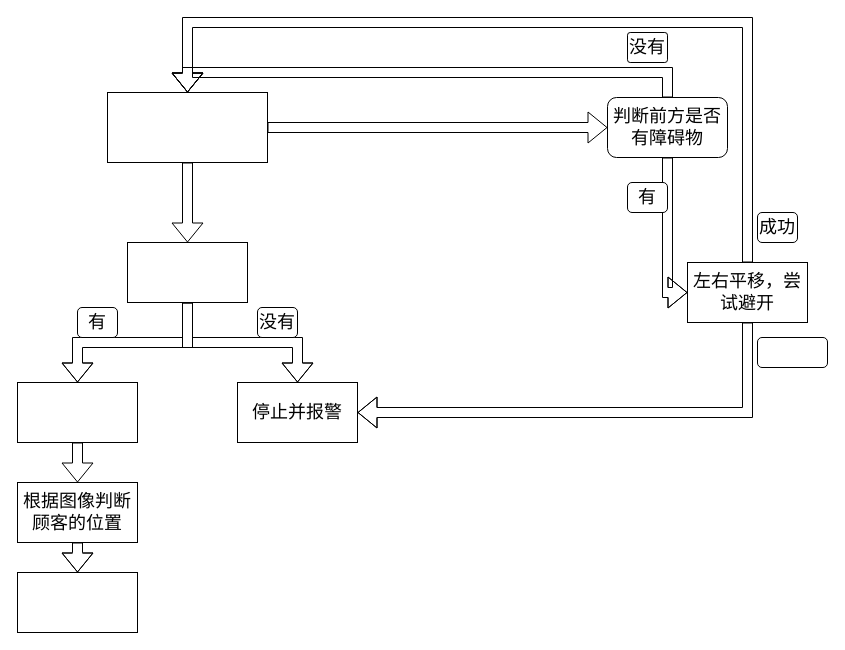
This 845x650 diagram has some shape labels left out. The shapes that lost their labels are listed below. From the top down, each one's centre as x and y in pixels, then its label:
At point (187, 127): "收到摄像头读取的一帧画面，进行分析".
At point (187, 272): "识别是否有二维码".
At point (792, 352): "不成功".
At point (77, 412): "判断二维码在图像中的位置".
At point (77, 602): "发送指令给电机控制轮子".
